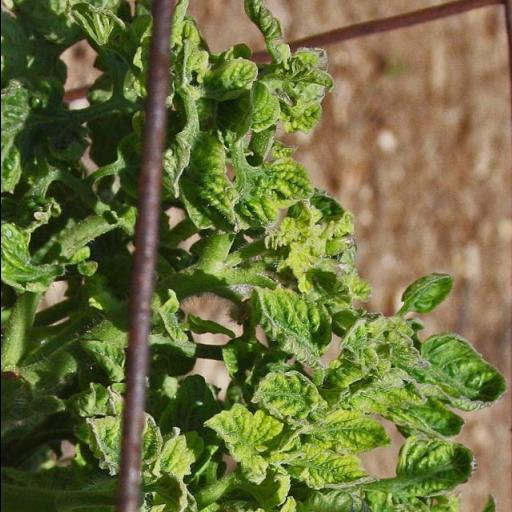Yellow Leaf Curl Virus: (164, 102, 240, 234), (242, 274, 330, 374), (408, 330, 508, 412), (197, 402, 284, 478), (384, 432, 476, 500), (246, 364, 326, 438), (272, 441, 366, 496), (264, 150, 320, 218), (310, 410, 393, 454), (242, 76, 282, 141)
